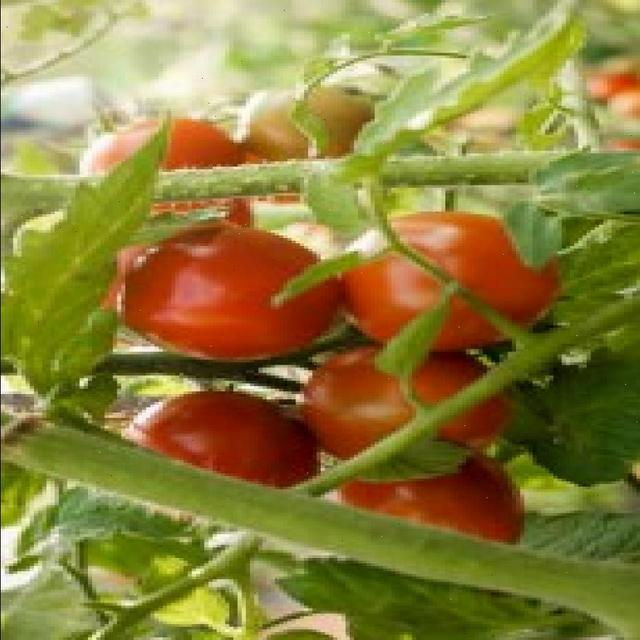Healthy Fruit: (97, 73, 300, 342)
